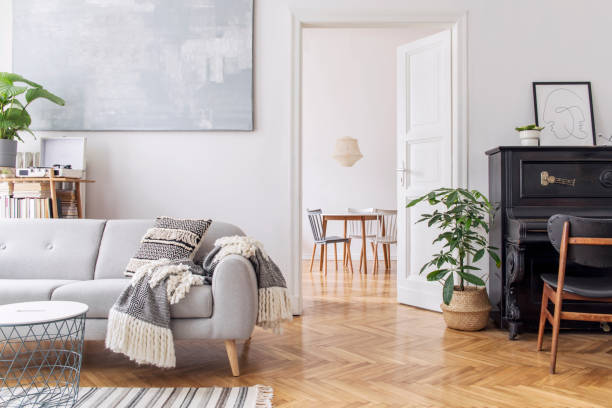chair: (535, 208, 612, 375)
dining table set: (306, 204, 396, 276)
large plant: (413, 184, 502, 330)
small plant: (0, 69, 66, 167), (515, 121, 544, 146)
sofa: (0, 214, 265, 379)
table: (0, 300, 90, 408)
wall art: (9, 0, 257, 134), (530, 79, 598, 146)
